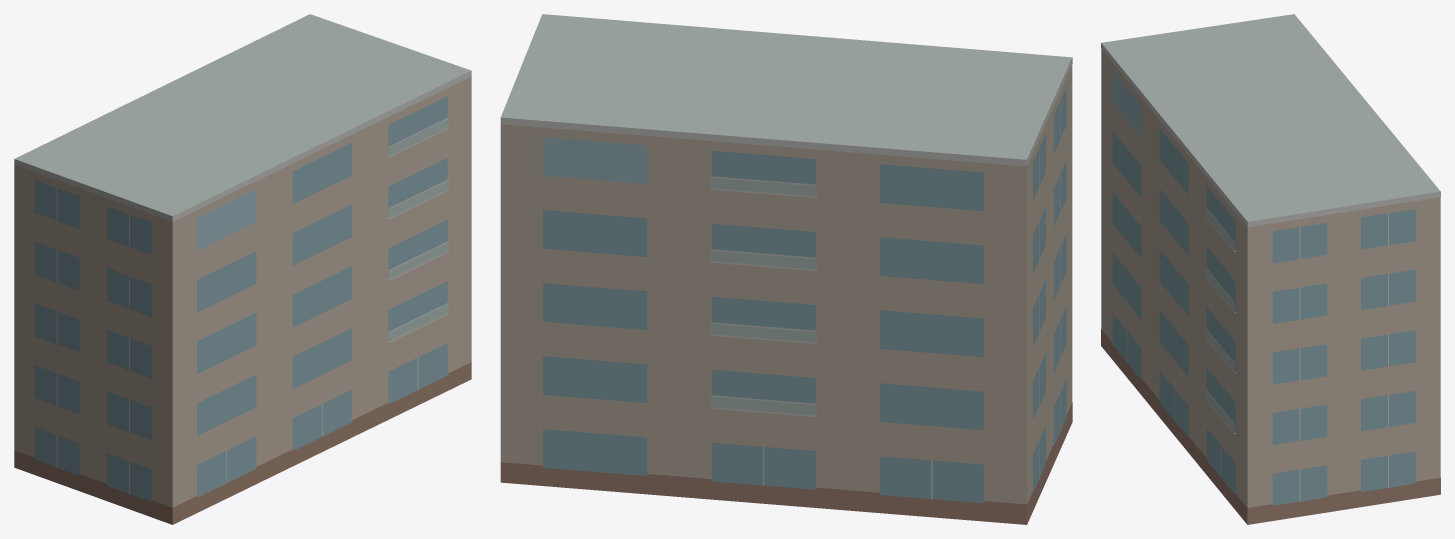
The model's file is survey-upis-33044784.glb.
The picture shows the model from 3 angles, left to right: view 1: azimuth 30°, elevation 25°; view 2: azimuth 150°, elevation 25°; view 3: azimuth 270°, elevation 25°; orthographic projection. The views are drawn at different scales.
Visible parts, largest first — view 1: survey-upis-33044784.tmp; view 2: survey-upis-33044784.tmp; view 3: survey-upis-33044784.tmp.
Part boxes in pixels (bbox=[...]): survey-upis-33044784.tmp: bbox=[14, 14, 471, 524]; survey-upis-33044784.tmp: bbox=[500, 14, 1072, 524]; survey-upis-33044784.tmp: bbox=[1101, 14, 1440, 524].
Size of the model in its own units: 19.56 by 13.3 by 13.52.
